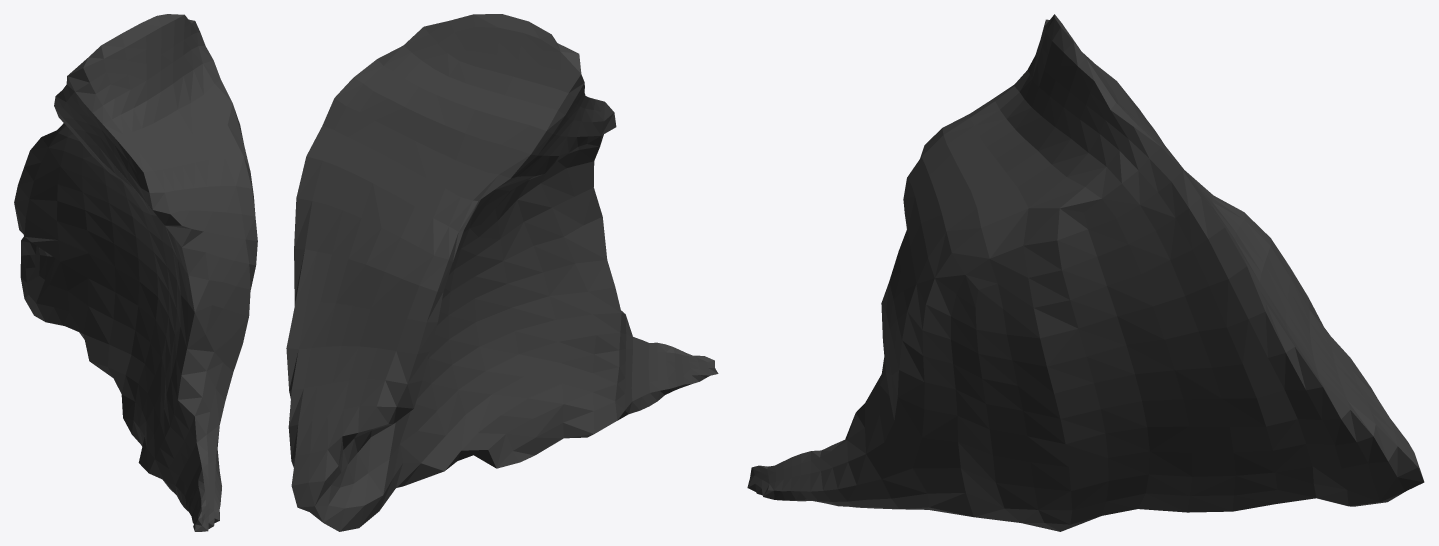
The model's file is Caudal_002.glb.
The picture shows the model from 3 angles, left to right: view 1: azimuth 30°, elevation 25°; view 2: azimuth 150°, elevation 25°; view 3: azimuth 270°, elevation 25°; orthographic projection. The views are drawn at different scales.
Visible parts, largest first — view 1: Caudal_002; view 2: Caudal_002; view 3: Caudal_002.
Boxes of the visible parts, x1=… form: Caudal_002: x1=14, y1=14, x2=257, y2=531; Caudal_002: x1=286, y1=14, x2=718, y2=531; Caudal_002: x1=747, y1=14, x2=1424, y2=531.
Size of the model in its own units: 50.92 by 107 by 130.
1 material, 1 textured.
